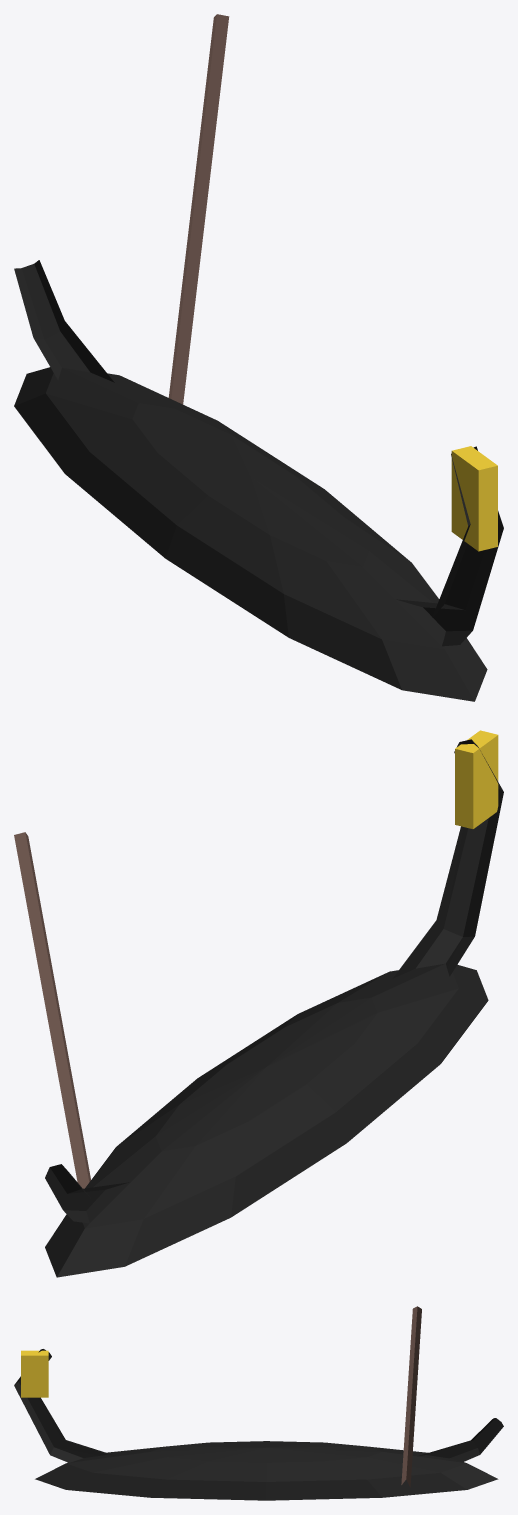
Rendered from gondol.glb.
3 views of the same model, one above another, from view 1: azimuth 30°, elevation 25°; view 2: azimuth 150°, elevation 25°; view 3: azimuth 270°, elevation 25° (orthographic). The views are drawn at different scales.
Parts seen in each view (by area): view 1: gondol; view 2: gondol; view 3: gondol.
Part boxes in pixels (box(x1,y1,x2,y2)): gondol: box(14, 14, 503, 701); gondol: box(14, 730, 503, 1277); gondol: box(14, 1306, 503, 1500).
Size of the model in its own units: 0.5396 by 0.9789 by 2.11.
